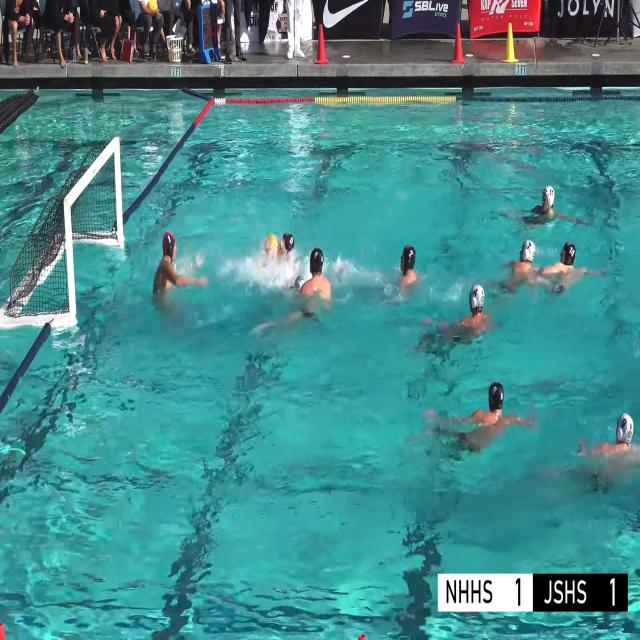ball: (266, 234, 278, 256), (148, 0, 157, 10)
